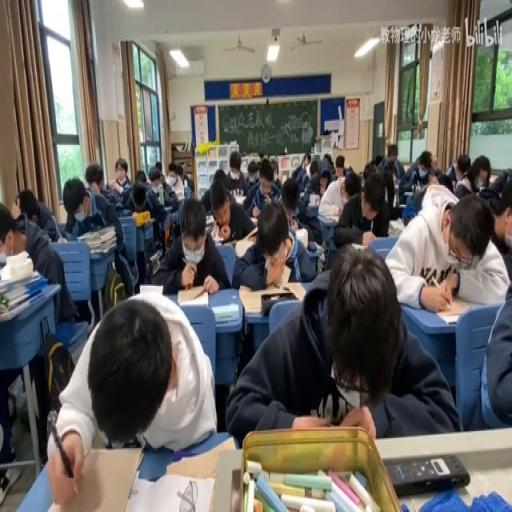calculator: (125, 469, 214, 512), (164, 434, 234, 480), (0, 260, 49, 322), (238, 280, 304, 313), (432, 296, 471, 321), (54, 320, 86, 347), (176, 286, 208, 306), (210, 302, 238, 322), (138, 283, 164, 296), (294, 224, 308, 248), (277, 264, 292, 286), (148, 248, 161, 272), (134, 214, 156, 228), (386, 218, 402, 234), (347, 240, 369, 250), (309, 239, 325, 252), (203, 218, 214, 236), (398, 200, 408, 218), (233, 193, 246, 205), (322, 215, 338, 223), (219, 239, 235, 247), (308, 194, 318, 206), (164, 202, 174, 212), (248, 216, 258, 225), (403, 191, 414, 196)
paper: (228, 246, 455, 442), (48, 288, 215, 508), (382, 186, 508, 310), (64, 175, 134, 303), (462, 264, 510, 432), (230, 199, 312, 292), (156, 195, 229, 296), (332, 168, 390, 249), (122, 180, 166, 278), (14, 186, 60, 242), (246, 159, 282, 218), (400, 148, 438, 203), (486, 179, 512, 253), (455, 154, 489, 198), (149, 164, 178, 209), (221, 148, 247, 193), (106, 156, 131, 196), (378, 144, 404, 182), (279, 178, 300, 219), (291, 152, 311, 186), (85, 161, 104, 193), (334, 155, 348, 181), (436, 172, 454, 192), (131, 189, 146, 212), (175, 162, 187, 189), (362, 162, 375, 186), (213, 168, 228, 185), (492, 172, 506, 189), (269, 158, 278, 180), (322, 154, 332, 172), (258, 152, 267, 171), (134, 168, 146, 182), (247, 168, 258, 183), (427, 170, 438, 184), (309, 161, 318, 176), (373, 154, 382, 168), (152, 162, 162, 171), (428, 158, 435, 168), (159, 175, 166, 183), (322, 128, 330, 134)
person: (386, 454, 470, 496), (230, 466, 242, 510)
